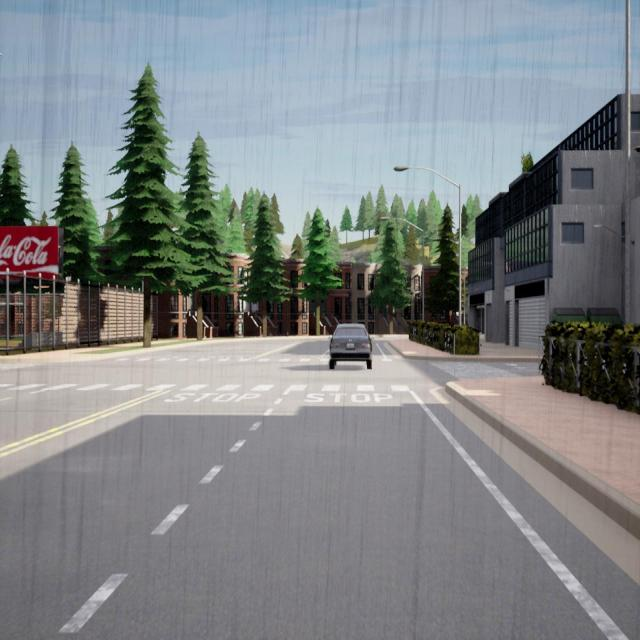Vehicle: (329, 323, 371, 369)
